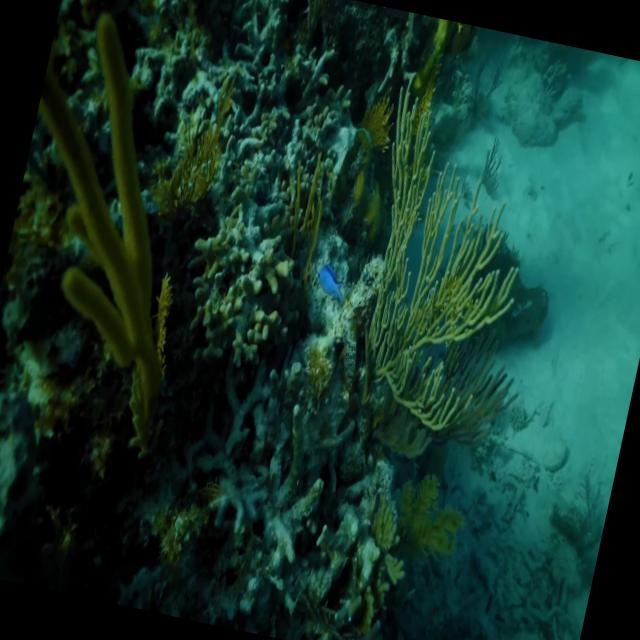fish: (312, 263, 348, 304)
